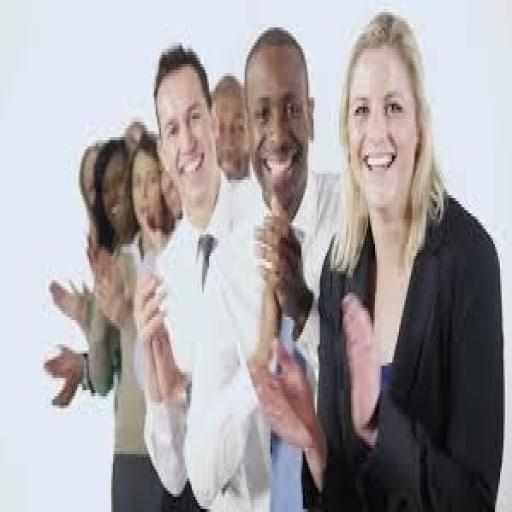clapping: (41, 12, 504, 506), (315, 9, 505, 509)
